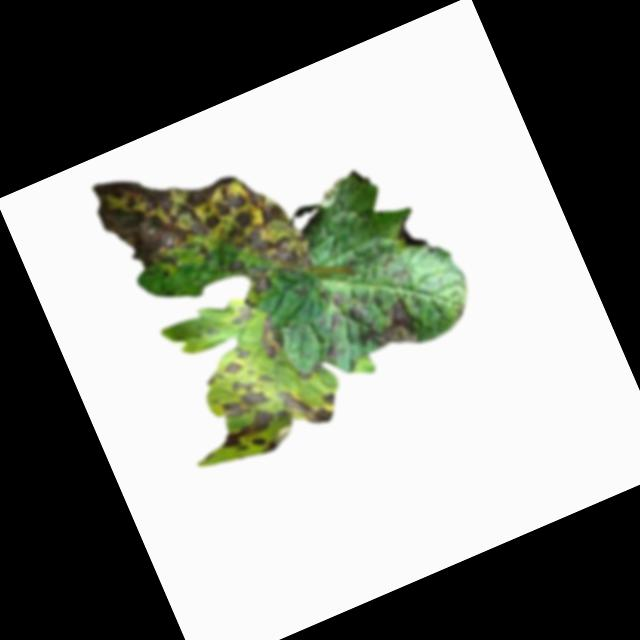Early_blight: (85, 116, 313, 329), (348, 287, 422, 364), (214, 400, 297, 468), (277, 370, 344, 435), (211, 365, 283, 424), (250, 311, 292, 363), (391, 213, 428, 255), (219, 345, 255, 378), (227, 302, 258, 329), (249, 274, 275, 298), (321, 340, 343, 363), (328, 290, 347, 311), (326, 313, 344, 329)
